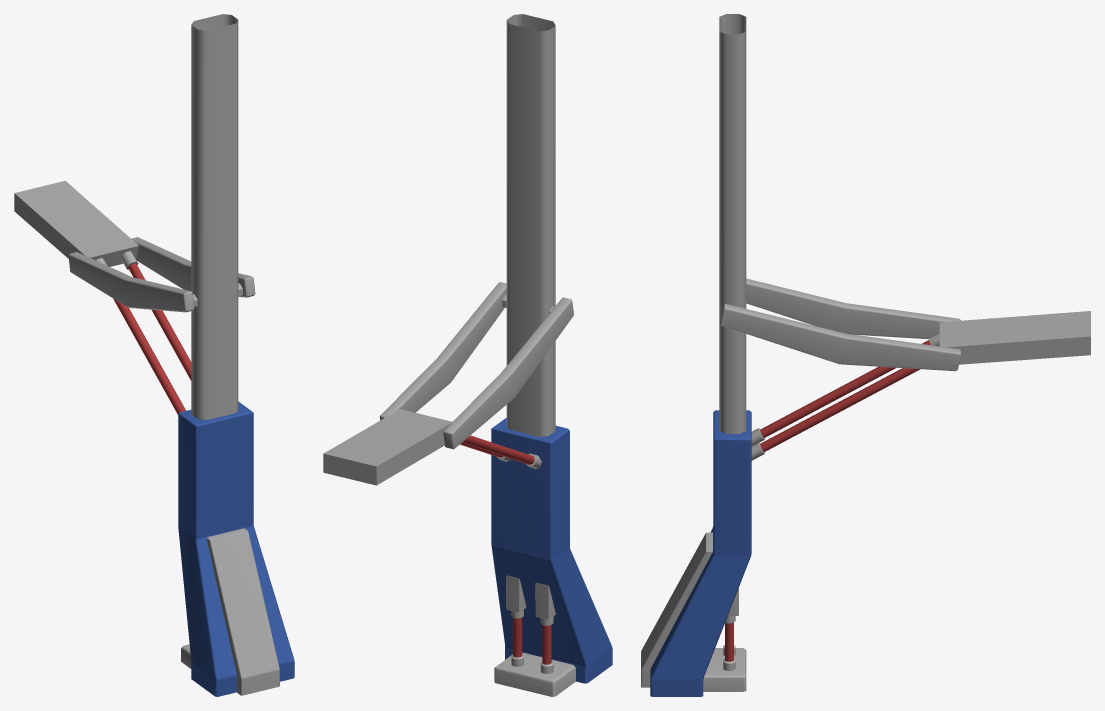
The model's file is SM_Pillar_Middle.fbx.
The picture shows the model from 3 angles, left to right: view 1: azimuth 30°, elevation 25°; view 2: azimuth 150°, elevation 25°; view 3: azimuth 270°, elevation 25°; orthographic projection. The views are drawn at different scales.
Parts seen in each view (by area): view 1: SM_Pillar_Middle; view 2: SM_Pillar_Middle; view 3: SM_Pillar_Middle.
Part boxes in pixels (<box>): SM_Pillar_Middle: <box>14,14,294,696</box>; SM_Pillar_Middle: <box>323,14,612,696</box>; SM_Pillar_Middle: <box>641,14,1090,696</box>.
Size of the model in its own units: 454 by 3481 by 2172.
